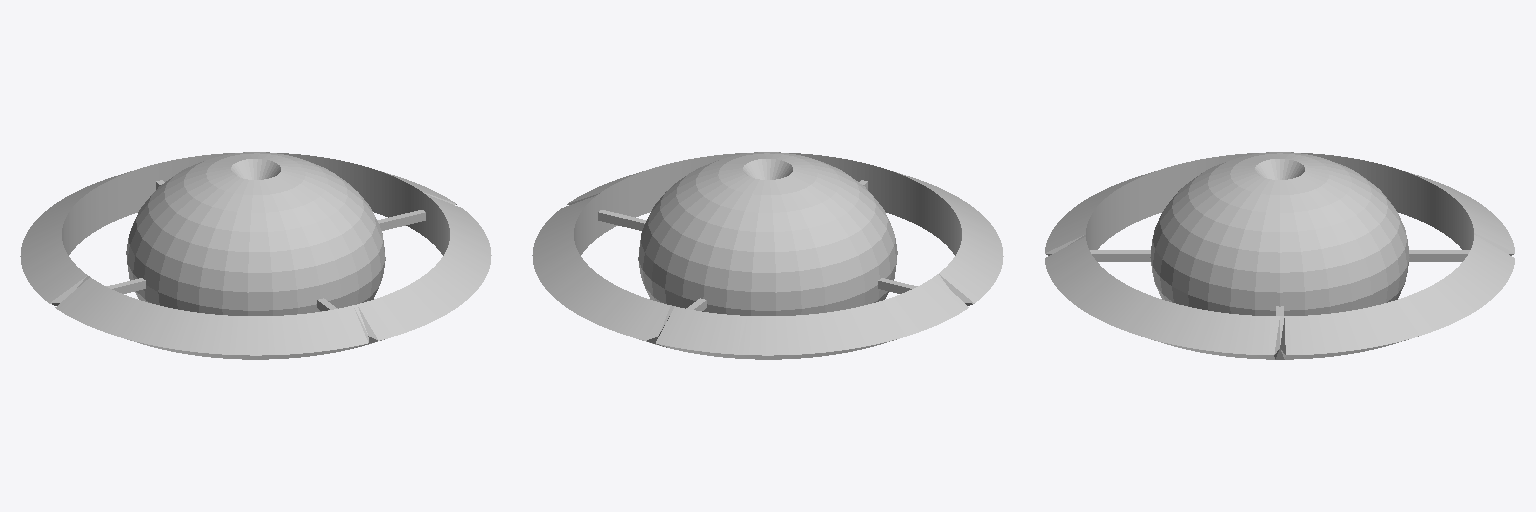
File: space_station2.obj
3 views of the same model, side by side, from view 1: azimuth 30°, elevation 25°; view 2: azimuth 150°, elevation 25°; view 3: azimuth 270°, elevation 25° (orthographic).
Visible parts, largest first — view 1: Sphere, Torus, Cube_Cube.001; view 2: Sphere, Torus, Cube_Cube.001; view 3: Sphere, Torus, Cube.001_Cube.002.
Boxes of the visible parts, x1,y1,x2,y2 form: Sphere: [126, 152, 385, 315]; Torus: [20, 152, 491, 359]; Cube_Cube.001: [106, 210, 425, 293]; Sphere: [638, 152, 897, 315]; Torus: [532, 152, 1003, 359]; Cube_Cube.001: [598, 210, 917, 293]; Sphere: [1150, 152, 1409, 315]; Torus: [1045, 152, 1514, 359]; Cube.001_Cube.002: [1090, 250, 1469, 261].
Bounding box in the file's own units: 7.25 × 2.94 × 7.25.